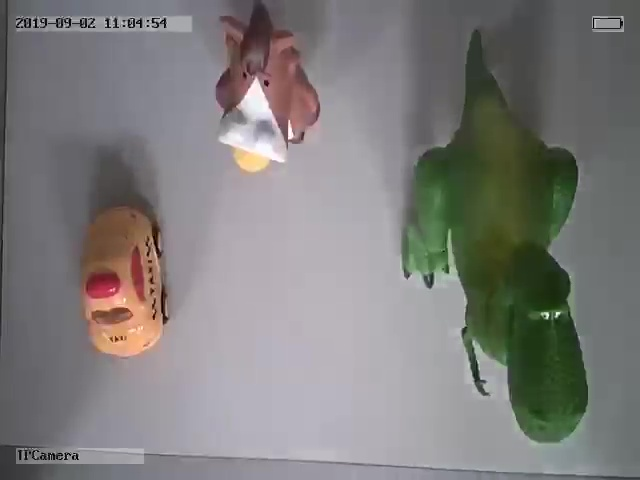car: (78, 205, 170, 358)
horse: (214, 1, 321, 172)
rex: (400, 40, 589, 443)
